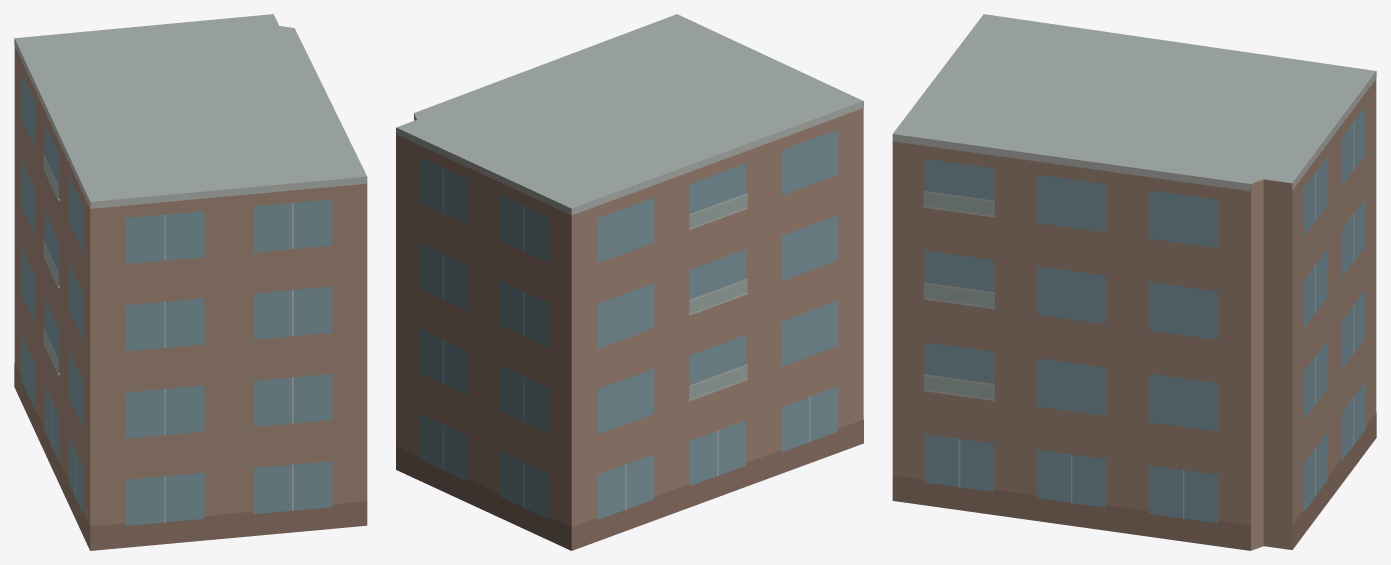
Rendered from survey-upis-32724445.glb.
The picture shows the model from 3 angles, left to right: view 1: azimuth 30°, elevation 25°; view 2: azimuth 150°, elevation 25°; view 3: azimuth 270°, elevation 25°; orthographic projection. The views are drawn at different scales.
Parts seen in each view (by area): view 1: survey-upis-32724445.tmp; view 2: survey-upis-32724445.tmp; view 3: survey-upis-32724445.tmp.
Boxes of the visible parts, x1,y1,x2,y2 form: survey-upis-32724445.tmp: [14, 14, 367, 550]; survey-upis-32724445.tmp: [396, 14, 863, 550]; survey-upis-32724445.tmp: [892, 14, 1376, 550].
Size of the model in its own units: 12.14 by 12.2 by 14.6.
